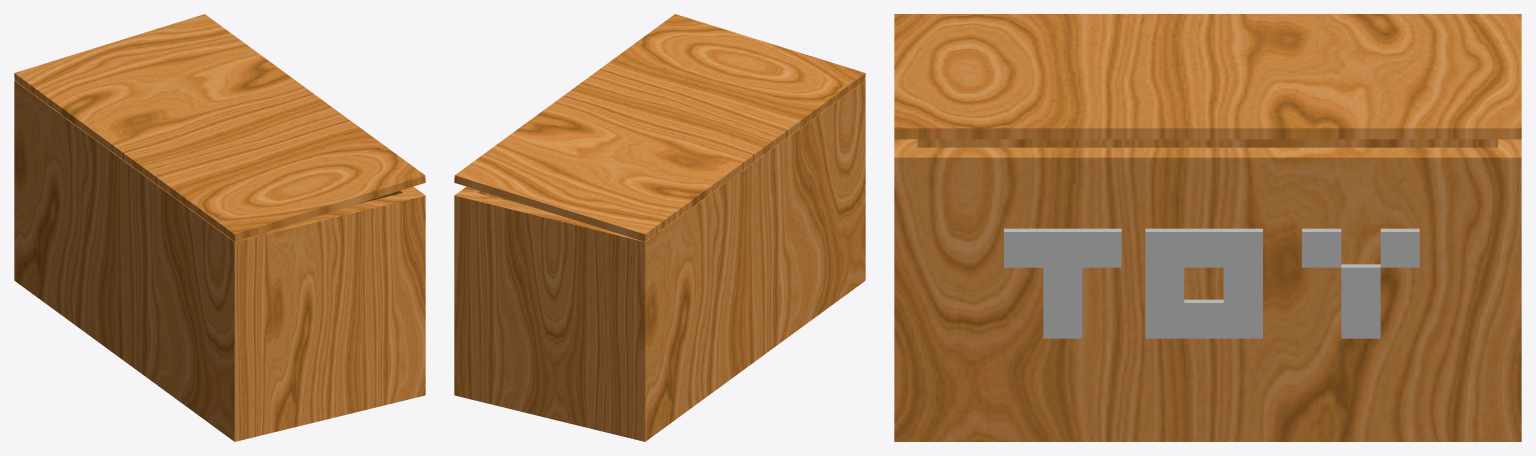
The model's file is ToyBox.fbx.
3 renders of one model, left to right at view 1: azimuth 30°, elevation 25°; view 2: azimuth 150°, elevation 25°; view 3: azimuth 270°, elevation 25°, orthographic. The views are drawn at different scales.
Visible parts, largest first — view 1: Cube.001; view 2: Cube.001; view 3: Cube.001.
Part boxes in pixels (x1,y1,x2,y2): Cube.001: [14, 14, 425, 441]; Cube.001: [454, 14, 865, 441]; Cube.001: [894, 14, 1521, 441].
Size of the model in its own units: 205 by 220 by 400.
